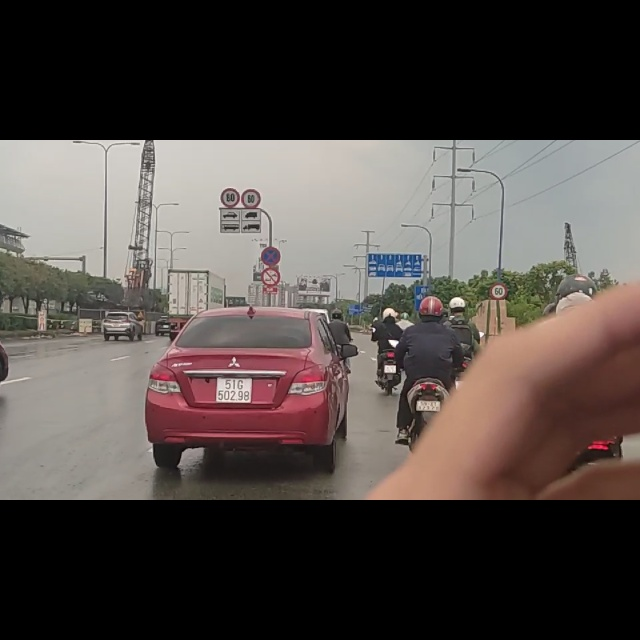bien_chi_dan: (260, 188, 281, 223), (220, 85, 240, 121), (241, 87, 261, 121)
